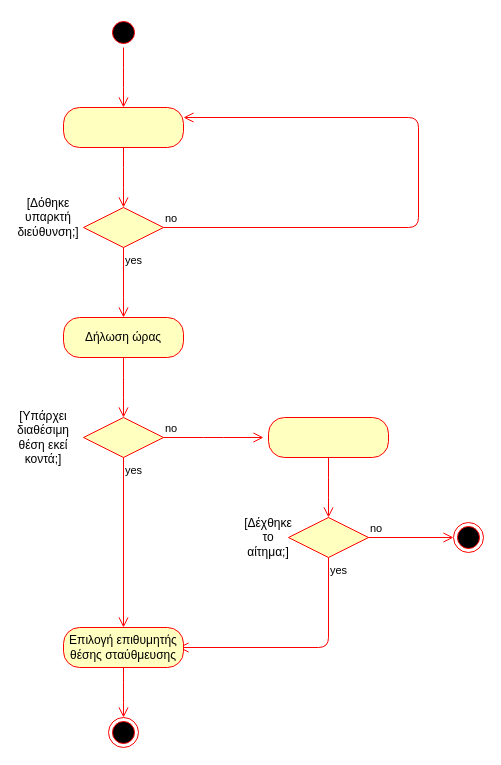
Some shapes in this 501 by 765 pixel diagram are drawn without their labels. The box of each missing label's shape, as (x1, y1, x2, y2) in pixels:
Αίτημα για Επέκταση πεδίου αναζήτησης: (268, 416, 388, 458)
Δήλωση διεύθυνσης: (62, 106, 184, 148)
